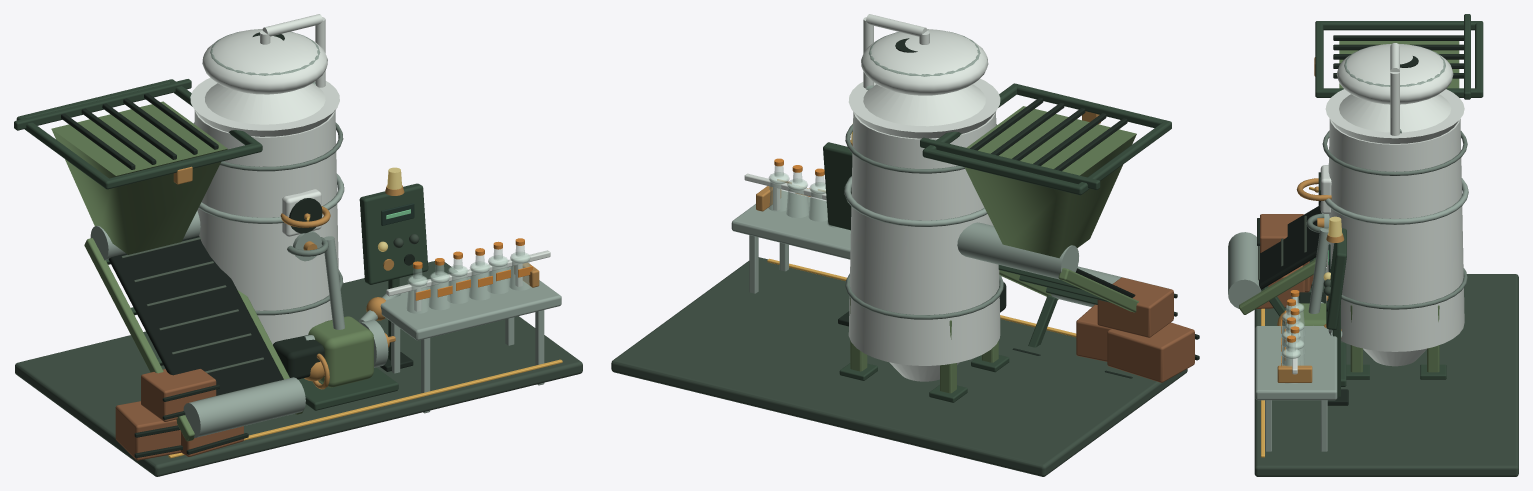
Rendered from processing.line.m1.glb.
3 renders of one model, left to right at view 1: azimuth 30°, elevation 25°; view 2: azimuth 150°, elevation 25°; view 3: azimuth 270°, elevation 25°, orthographic. The views are drawn at different scales.
Parts seen in each view (by area): view 1: processingFoundation, tankBody, conveyorBelt, hopperBody, bottlingTable, tankLid, crateBody (×3), controlPanelBody, conveyorRollerB, tankCone, pumpHousing, tankShoulder (+24 smaller); view 2: processingFoundation, tankBody, hopperBody, crateBody (×3), tankLid, bottlingTable, tankCone, conveyorRollerA, tankShoulder, controlPanelBody, hopperRimBar1, hopperFrontLip (+12 smaller); view 3: processingFoundation, tankBody, bottlingTable, tankLid, tankCone, conveyorBelt, tankShoulder, conveyorRollerB, hopperRimBar3, crateBody (×2), controlPanelBody, tankBand (+24 smaller).
Boxes of the visible parts, x1,y1,x2,y2 form: processingFoundation: (15,261,582,476); tankBody: (194,110,338,344); conveyorBelt: (108,236,283,395); hopperBody: (51,101,227,254); bottlingTable: (380,266,561,340); tankLid: (202,29,327,94); crateBody (×3): (115,369,243,460); controlPanelBody: (359,183,428,284); conveyorRollerB: (183,377,305,437); tankCone: (205,83,325,124); pumpHousing: (308,316,373,387); tankShoulder: (190,77,339,136); processingFoundation: (611,257,1187,476); tankBody: (848,112,1000,365); hopperBody: (964,106,1136,258); crateBody (×3): (1076,277,1194,382); tankLid: (861,29,988,95); bottlingTable: (731,190,850,259); tankCone: (863,84,985,126); conveyorRollerA: (957,222,1078,279); tankShoulder: (848,78,1000,138); controlPanelBody: (823,142,852,230); hopperRimBar1: (922,147,1084,195); hopperFrontLip: (920,137,1100,190); processingFoundation: (1254,274,1518,476); tankBody: (1326,119,1464,351); bottlingTable: (1255,326,1337,400); tankLid: (1336,44,1453,104); tankCone: (1339,94,1451,132); conveyorBelt: (1259,206,1321,289); tankShoulder: (1325,89,1464,143); conveyorRollerB: (1228,232,1261,308); hopperRimBar3: (1315,21,1483,30); crateBody (×2): (1256,214,1304,308); controlPanelBody: (1326,228,1346,329); tankBand: (1325,178,1468,224).
Bounding box in the file's own units: 7 × 5.27 × 4.18.
